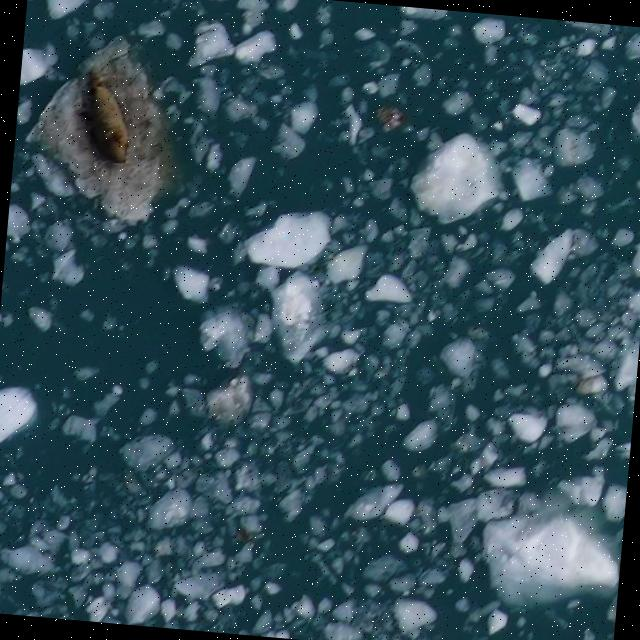seal: (72, 63, 134, 169)
